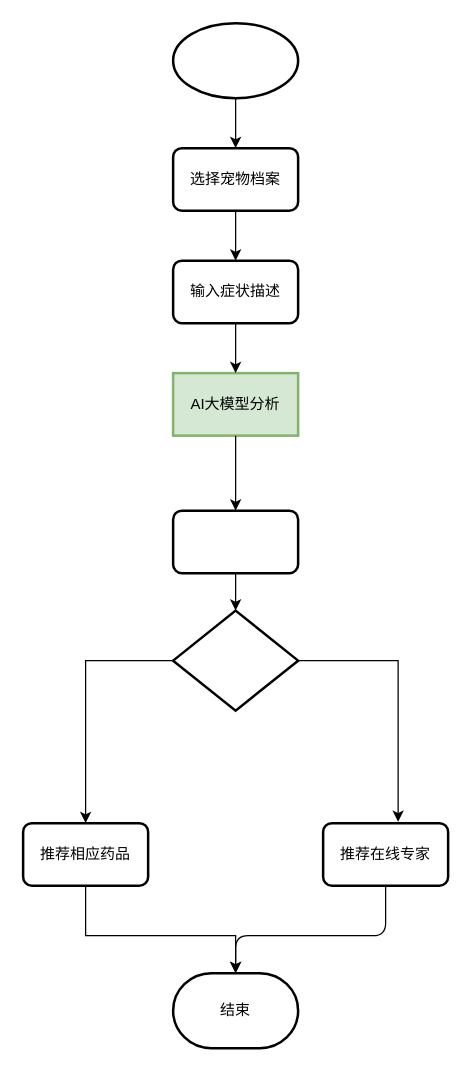
This 470x1070 diagram has some shape labels left out. The shapes that lost their labels are listed below. From the top down, each one's box as (x1, y1, x2, y2) in pixels, then its label:
(171, 21, 299, 99): 开始
(171, 509, 299, 574): 生成诊断报告
(171, 609, 299, 711): 疑似病症？
